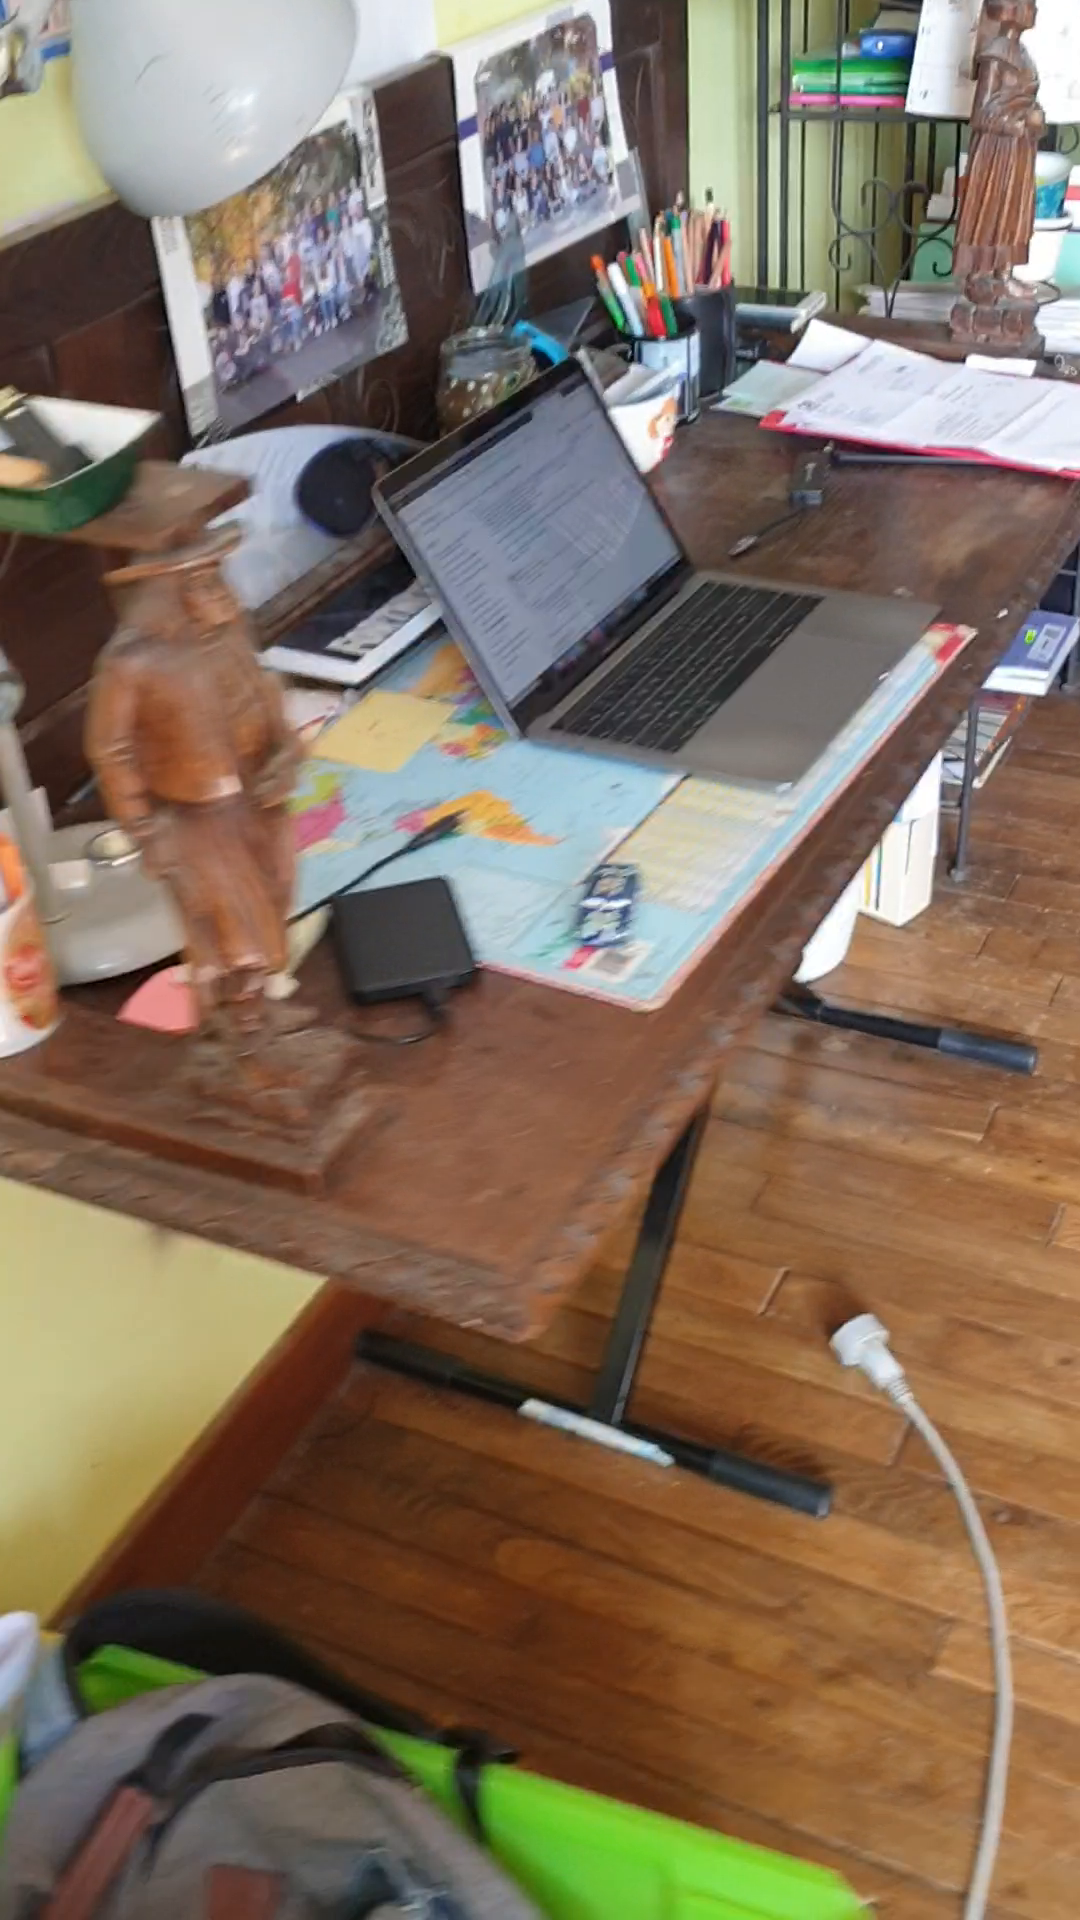cars: (578, 862, 644, 949)
